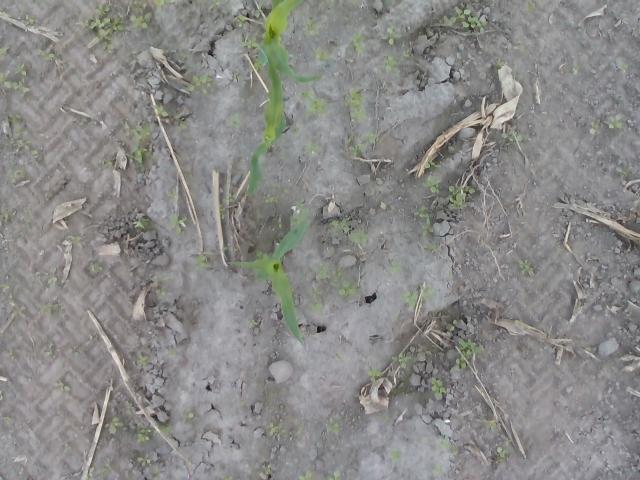Maize: (224, 219, 308, 347), (239, 40, 291, 198), (259, 1, 324, 83)
Weeds: (86, 16, 126, 52), (443, 6, 487, 34), (454, 338, 483, 370), (343, 88, 367, 126), (298, 88, 328, 118), (446, 184, 475, 210), (28, 266, 58, 290), (128, 1, 152, 30), (414, 205, 434, 236), (314, 262, 344, 281), (332, 278, 358, 299), (187, 73, 212, 94), (290, 201, 310, 226), (125, 123, 152, 141), (166, 214, 188, 234), (377, 56, 401, 74), (129, 146, 152, 164), (429, 376, 446, 400), (348, 228, 368, 248), (9, 299, 28, 319), (398, 289, 418, 308), (420, 174, 440, 193), (390, 352, 412, 369), (347, 33, 366, 52), (418, 284, 438, 302), (104, 416, 124, 434), (302, 18, 322, 36), (382, 27, 402, 45), (266, 422, 286, 440), (2, 138, 30, 150), (154, 0, 176, 14), (194, 255, 212, 272), (330, 218, 349, 234), (604, 114, 624, 129), (10, 113, 22, 137), (10, 80, 28, 96), (313, 48, 331, 64), (9, 168, 27, 184), (305, 140, 322, 156), (226, 113, 241, 131), (424, 155, 442, 170), (361, 130, 380, 144), (250, 58, 266, 74), (518, 258, 534, 274), (368, 365, 383, 382), (308, 300, 326, 314), (326, 417, 340, 435), (152, 103, 168, 118), (436, 435, 452, 450), (386, 260, 404, 273), (37, 48, 55, 61), (348, 143, 366, 156), (39, 303, 54, 318), (308, 286, 324, 300), (43, 340, 56, 357), (500, 132, 522, 142), (182, 406, 194, 424), (240, 36, 258, 48), (272, 181, 290, 193), (234, 13, 248, 28), (615, 166, 632, 178), (496, 446, 508, 463), (133, 217, 150, 229), (262, 193, 280, 204), (136, 428, 150, 442), (168, 188, 180, 204), (137, 453, 151, 466), (388, 448, 402, 461), (95, 3, 110, 15), (218, 203, 228, 221), (137, 352, 148, 368), (148, 274, 170, 282), (0, 72, 11, 88), (92, 259, 105, 272), (82, 466, 94, 480), (175, 117, 187, 131), (492, 58, 504, 72), (254, 250, 269, 261), (158, 424, 174, 434), (98, 158, 114, 168), (15, 64, 28, 76), (483, 419, 497, 430), (0, 207, 10, 222), (222, 192, 237, 202), (512, 69, 524, 81), (54, 382, 72, 390), (618, 61, 630, 73), (299, 470, 313, 480), (66, 347, 80, 357), (326, 470, 340, 480), (124, 400, 133, 415), (589, 122, 600, 134), (156, 287, 167, 298), (422, 244, 437, 252), (68, 234, 80, 244), (98, 466, 106, 480), (513, 44, 527, 52), (25, 14, 36, 24), (209, 0, 220, 10), (432, 464, 443, 474), (178, 48, 188, 59), (524, 1, 536, 10), (255, 3, 262, 18), (572, 61, 580, 74), (264, 464, 272, 476), (246, 319, 258, 326), (0, 283, 9, 292), (346, 133, 355, 142), (220, 474, 233, 480), (168, 348, 177, 356), (232, 70, 240, 79), (222, 242, 230, 251), (336, 354, 344, 362), (277, 218, 283, 228), (380, 414, 390, 420), (404, 48, 411, 56), (514, 319, 523, 325), (2, 416, 12, 421), (451, 320, 456, 330), (29, 150, 39, 155), (506, 438, 512, 446), (292, 126, 298, 133), (152, 475, 160, 480), (0, 48, 4, 57), (0, 390, 3, 398)
